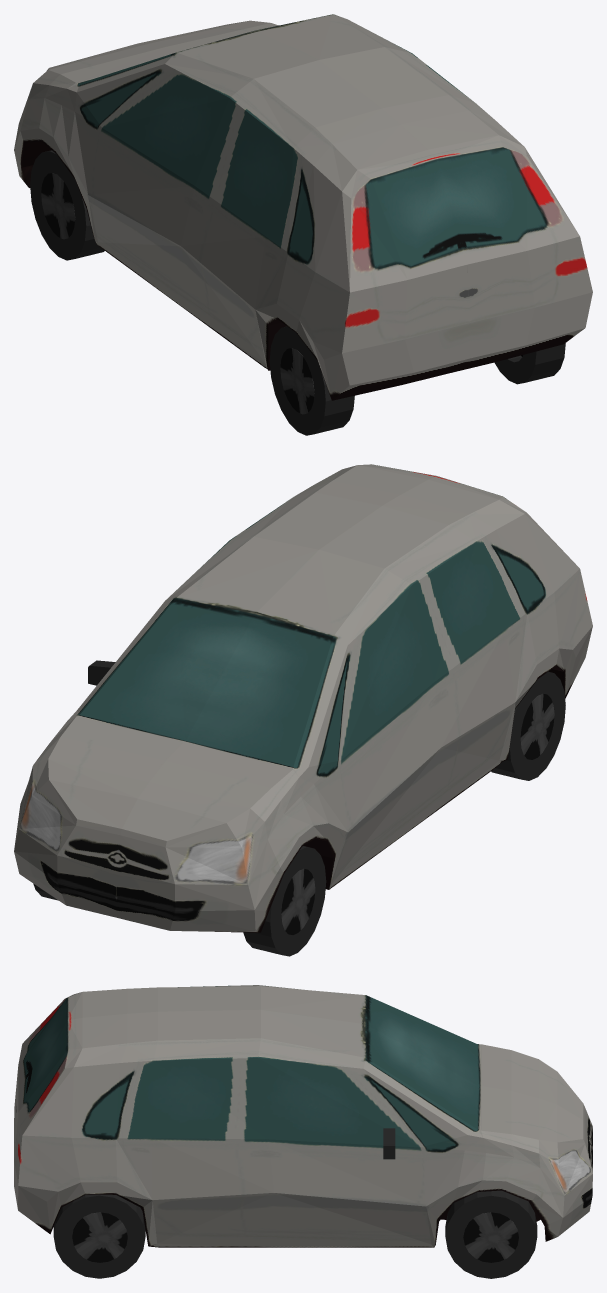
The picture shows the model from 3 angles, top to bottom: view 1: azimuth 30°, elevation 25°; view 2: azimuth 150°, elevation 25°; view 3: azimuth 270°, elevation 25°; orthographic projection. The views are drawn at different scales.
Bounding box in the file's own units: 67.08 × 62.19 × 147.
3 materials, 2 textured.
